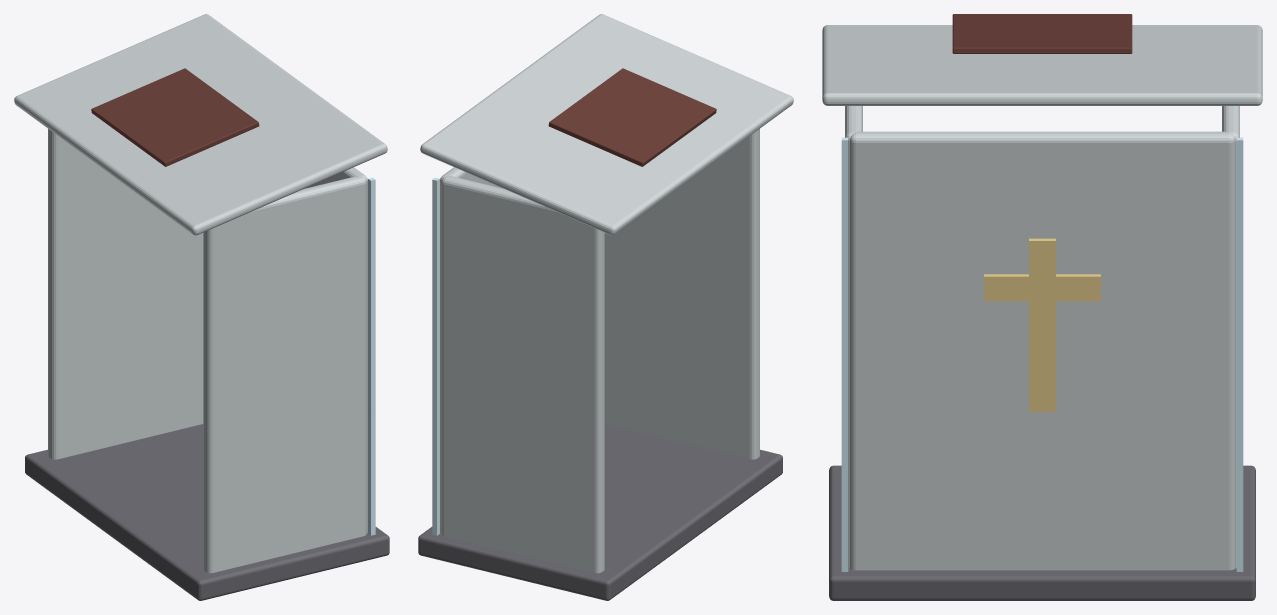
File: pulpit.glb
3 renders of one model, left to right at view 1: azimuth 30°, elevation 25°; view 2: azimuth 150°, elevation 25°; view 3: azimuth 270°, elevation 25°, orthographic. The views are drawn at different scales.
Parts seen in each view (by area): view 1: Cube, Cube.004, Cube.009, Cube.005; view 2: Cube, Cube.004, Cube.009, Cube.005; view 3: Cube, Cube.004, Cube.009, Cube.007, Cube.005.
Boxes of the visible parts, left/top/right/bottom form: Cube: left=14, top=14, right=387, bottom=573; Cube.004: left=25, top=424, right=389, bottom=600; Cube.009: left=91, top=68, right=259, bottom=166; Cube.005: left=368, top=177, right=375, bottom=535; Cube: left=420, top=14, right=793, bottom=573; Cube.004: left=418, top=424, right=782, bottom=600; Cube.009: left=548, top=68, right=716, bottom=166; Cube.005: left=432, top=177, right=439, bottom=535; Cube: left=822, top=25, right=1262, bottom=570; Cube.004: left=829, top=465, right=1255, bottom=600; Cube.009: left=952, top=14, right=1132, bottom=53; Cube.007: left=984, top=238, right=1100, bottom=411; Cube.005: left=841, top=137, right=1243, bottom=571.
Bounding box in the file's own units: 0.6255 × 1.24 × 0.98.
